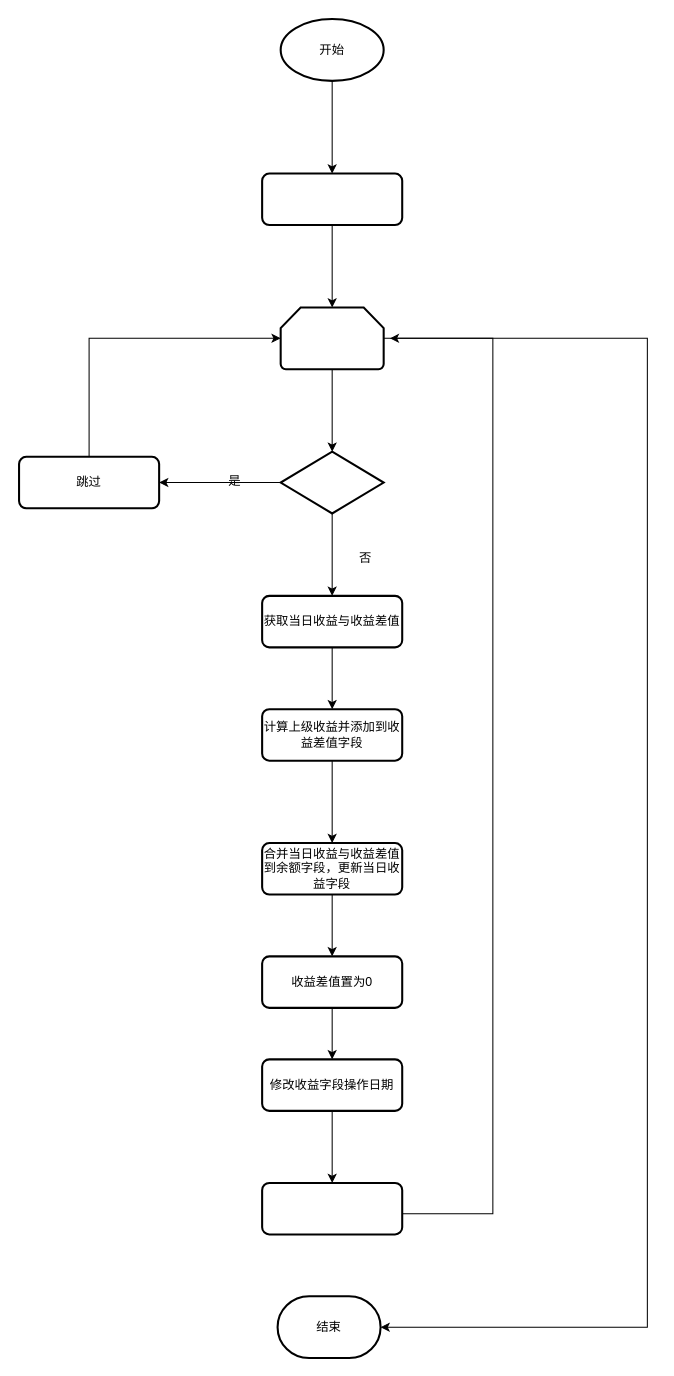
Some shapes in this 674 by 1376 pixel diagram are drawn without their labels. The shapes that lost their labels are listed below. From the top down, each one's centre as x and y in pixels, then its label:
(x=332, y=199): 读取收益配置
(x=331, y=338): 按数据库顺序读取用户信息
(x=331, y=482): 是否为收账用户
(x=332, y=1208): 添加操作日志
